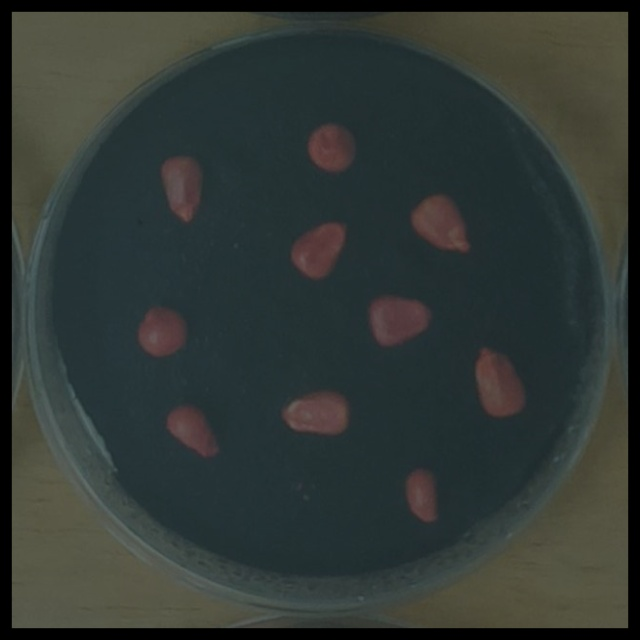Zea mays: (467, 336, 533, 425), (402, 186, 477, 261), (361, 286, 442, 355), (283, 211, 356, 286), (273, 381, 357, 443), (158, 397, 227, 465), (130, 296, 196, 366), (153, 147, 209, 229), (300, 115, 363, 177), (397, 459, 446, 529)
